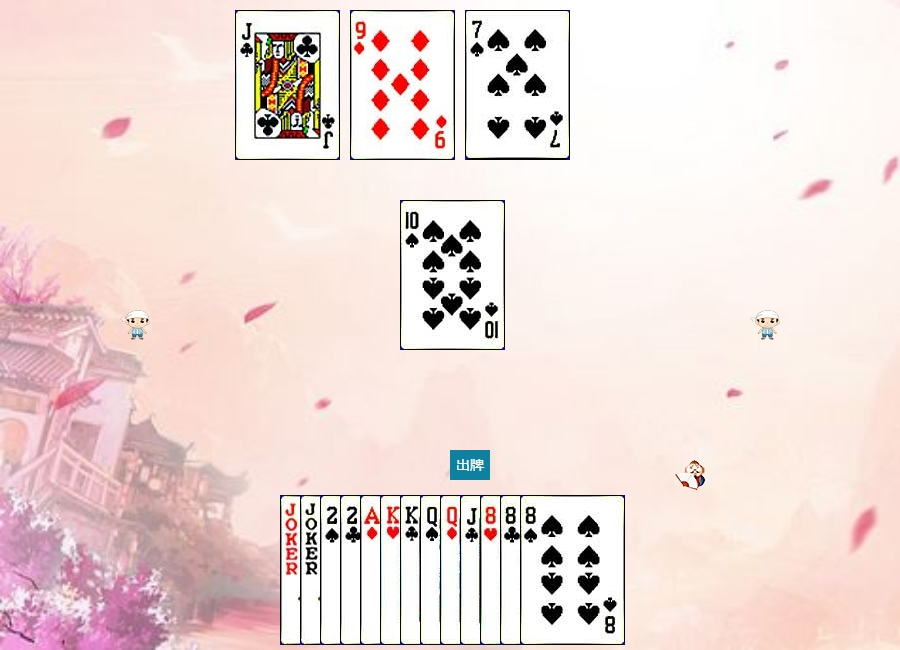10~4: (400, 200, 505, 350)
11~2: (235, 10, 340, 160), (460, 495, 565, 645)
12~1: (440, 495, 545, 645)
12~4: (420, 495, 525, 645)
13~2: (400, 495, 505, 645)
13~3: (380, 495, 485, 645)
14~1: (360, 495, 465, 645)
15~2: (340, 495, 445, 645)
15~4: (320, 495, 425, 645)
17~3: (300, 495, 405, 645)
18~4: (280, 495, 385, 645)
7~4: (465, 10, 570, 160)
8~2: (500, 495, 605, 645)
8~3: (480, 495, 585, 645)
8~4: (520, 495, 625, 645)
9~1: (350, 10, 455, 160)
